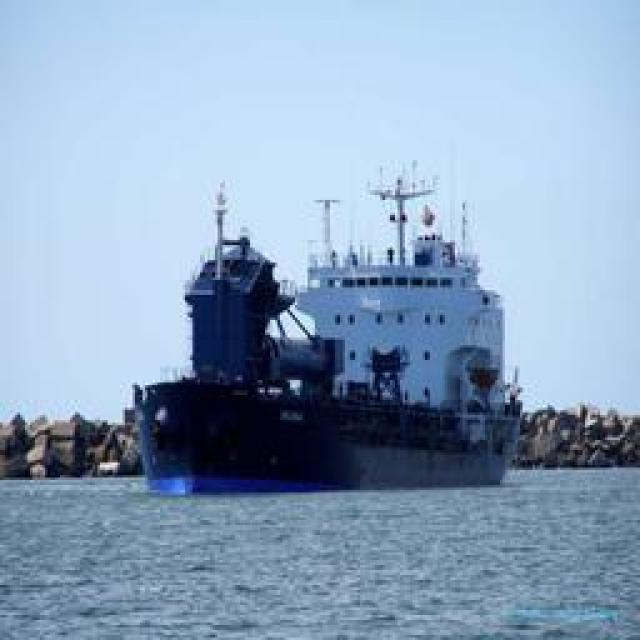ship2: (136, 176, 524, 497)
